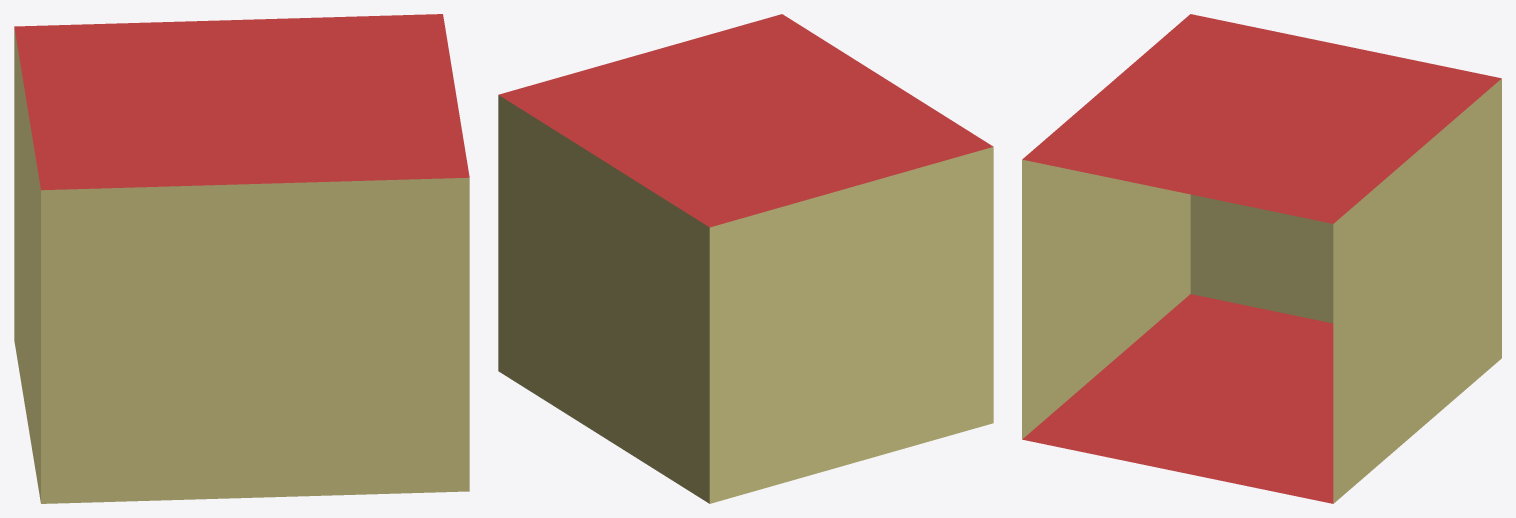
3 renders of one model, left to right at view 1: azimuth 30°, elevation 25°; view 2: azimuth 150°, elevation 25°; view 3: azimuth 270°, elevation 25°, orthographic. The views are drawn at different scales.
Size of the model in its own units: 9.46 by 9.14 by 5.88.
